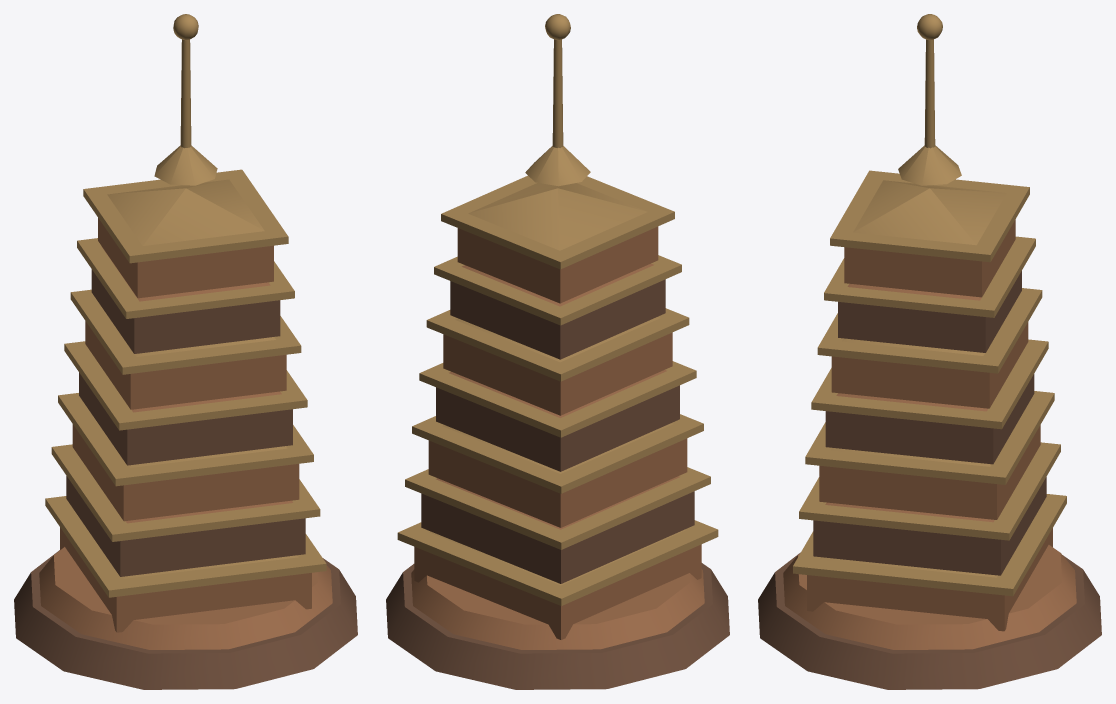
The picture shows the model from 3 angles, left to right: view 1: azimuth 30°, elevation 25°; view 2: azimuth 150°, elevation 25°; view 3: azimuth 270°, elevation 25°; orthographic projection.
Parts seen in each view (by area): view 1: GlazedBrickBody (×7), Eave_Band (×7), Foundation_Platform, Foundation_Step, Roof_Eave (×6), Finial_Crown, Finial_Shaft, Finial_Jewel; view 2: GlazedBrickBody (×7), Eave_Band (×7), Foundation_Platform, Foundation_Step, Roof_Eave (×7), Finial_Crown, Finial_Shaft, Finial_Jewel; view 3: GlazedBrickBody (×7), Eave_Band (×7), Foundation_Platform, Foundation_Step, Roof_Eave (×7), Finial_Crown, Finial_Shaft, Finial_Jewel.
Boxes of the visible parts, x1=… form: GlazedBrickBody (×7): x1=60, y1=218, x2=311, y2=632; Eave_Band (×7): x1=45, y1=169, x2=326, y2=597; Foundation_Platform: x1=14, y1=550, x2=357, y2=689; Foundation_Step: x1=39, y1=547, x2=332, y2=649; Roof_Eave (×6): x1=101, y1=179, x2=292, y2=523; Finial_Crown: x1=154, y1=145, x2=217, y2=185; Finial_Shaft: x1=180, y1=39, x2=191, y2=148; Finial_Jewel: x1=173, y1=14, x2=198, y2=40; GlazedBrickBody (×7): x1=414, y1=226, x2=701, y2=639; Eave_Band (×7): x1=397, y1=175, x2=718, y2=605; Foundation_Platform: x1=386, y1=563, x2=729, y2=689; Foundation_Step: x1=411, y1=569, x2=704, y2=649; Roof_Eave (×7): x1=429, y1=183, x2=686, y2=585; Finial_Crown: x1=525, y1=145, x2=590, y2=186; Finial_Shaft: x1=552, y1=39, x2=563, y2=147; Finial_Jewel: x1=545, y1=14, x2=570, y2=40; GlazedBrickBody (×7): x1=807, y1=219, x2=1052, y2=631; Eave_Band (×7): x1=793, y1=170, x2=1066, y2=596; Foundation_Platform: x1=758, y1=552, x2=1101, y2=689; Foundation_Step: x1=783, y1=545, x2=1076, y2=649; Roof_Eave (×7): x1=820, y1=180, x2=1006, y2=577; Finial_Crown: x1=898, y1=145, x2=961, y2=185; Finial_Shaft: x1=924, y1=39, x2=935, y2=148; Finial_Jewel: x1=917, y1=14, x2=942, y2=40.
Bounding box in the file's own units: 4.7 × 9.08 × 4.7.
